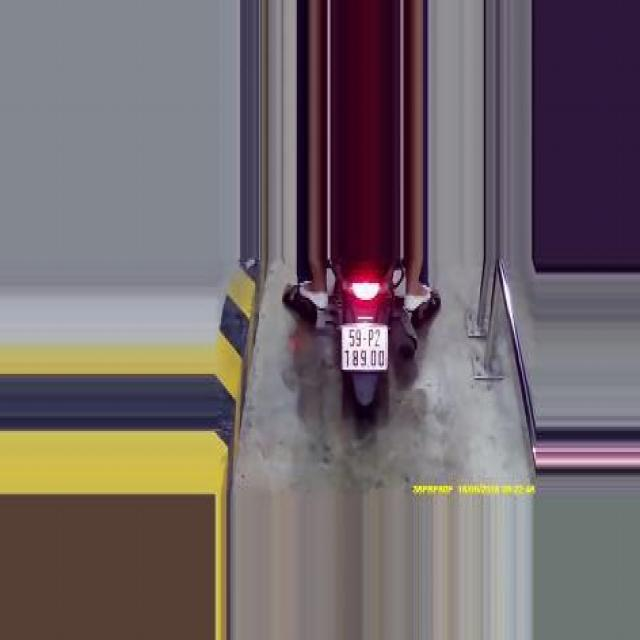License-Plates: (338, 318, 392, 375)
